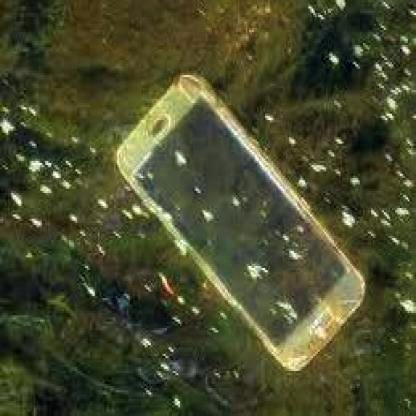cellphone: (110, 75, 364, 369)
